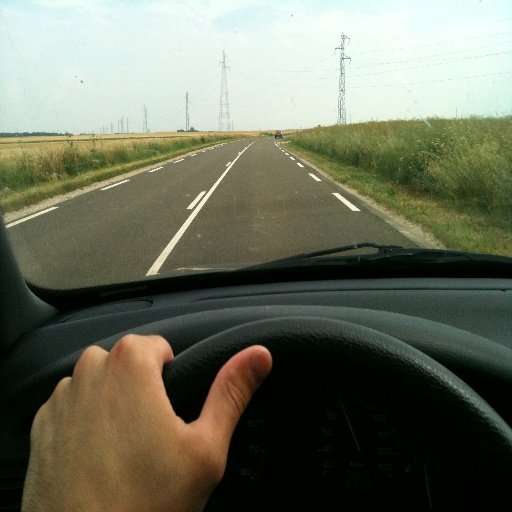hand: (12, 310, 297, 503)
